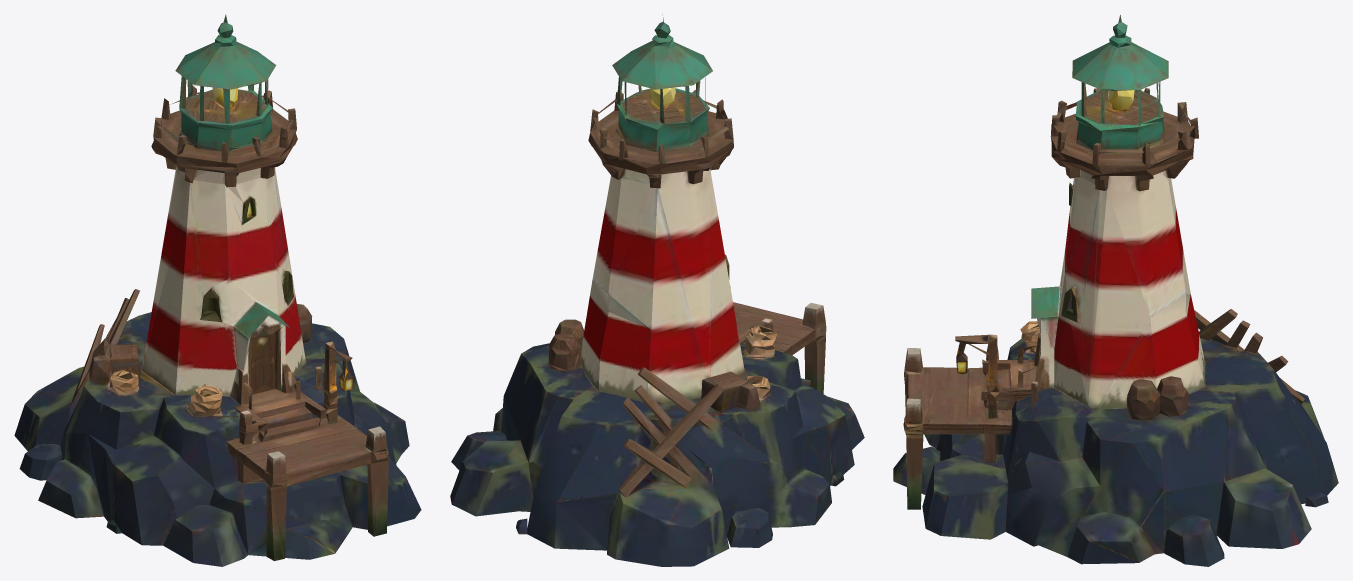
Rendered from lighthouse.glb.
3 renders of one model, left to right at view 1: azimuth 30°, elevation 25°; view 2: azimuth 150°, elevation 25°; view 3: azimuth 270°, elevation 25°, orthographic. The views are drawn at different scales.
Visible parts, largest first — view 1: lighthouse; view 2: lighthouse; view 3: lighthouse.
Part boxes in pixels (<box>): lighthouse: <box>14,14,421,566</box>; lighthouse: <box>450,14,864,566</box>; lighthouse: <box>893,15,1338,566</box>.
Bounding box in the file's own units: 1.47 × 1.9 × 1.64.
Materials: 1 (1 with a texture image).
